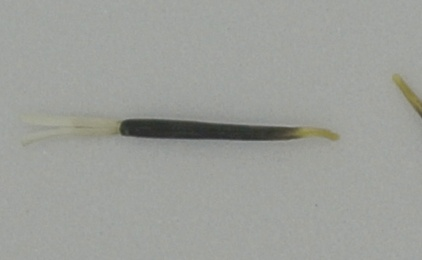เมล็ดดีเรียวยาว: (18, 109, 342, 150)
